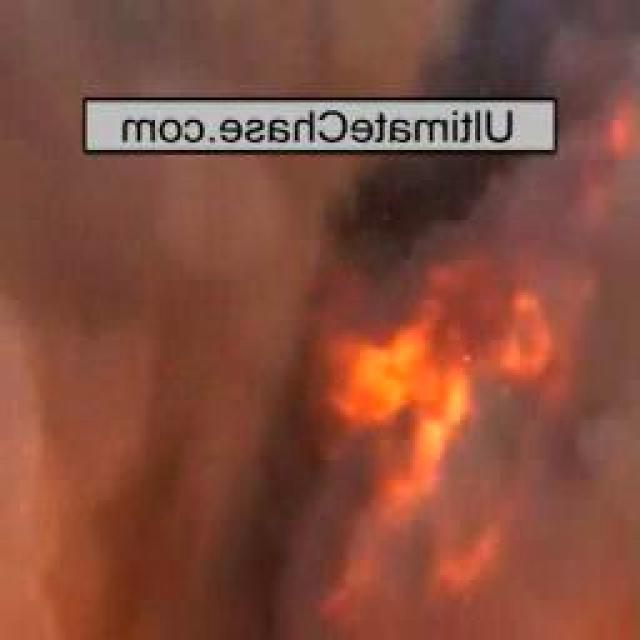Fire: (278, 234, 565, 619), (592, 80, 640, 165)
